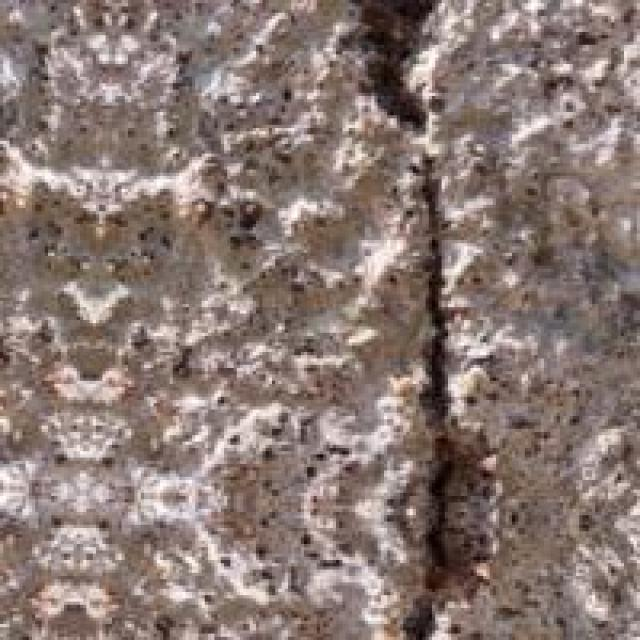Crack: (294, 0, 522, 637)
